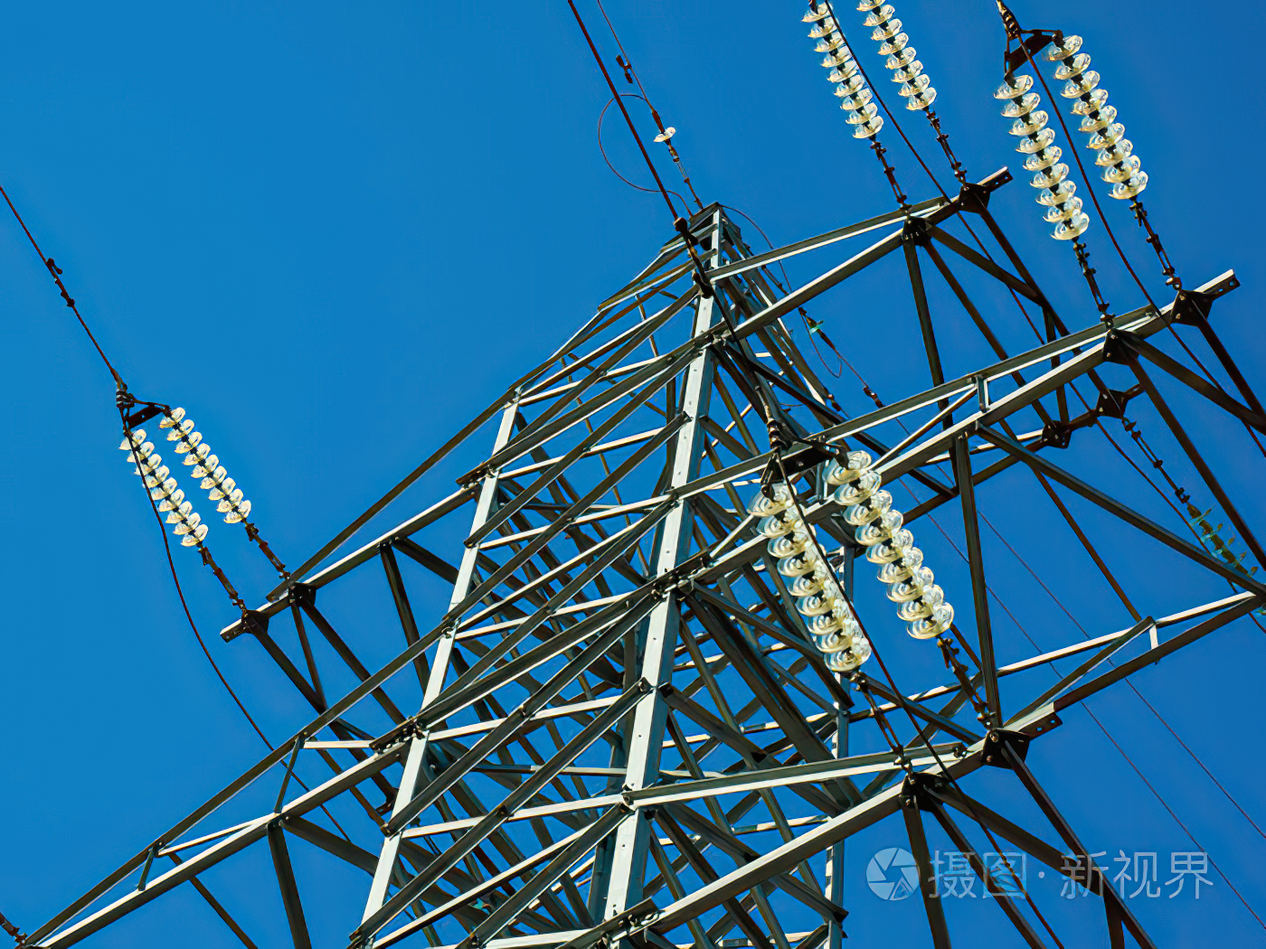insulator: (749, 479, 874, 671), (833, 446, 952, 646), (1052, 33, 1155, 201), (997, 74, 1091, 242), (119, 405, 212, 548), (799, 2, 888, 140), (160, 405, 250, 526), (859, 1, 940, 105)
